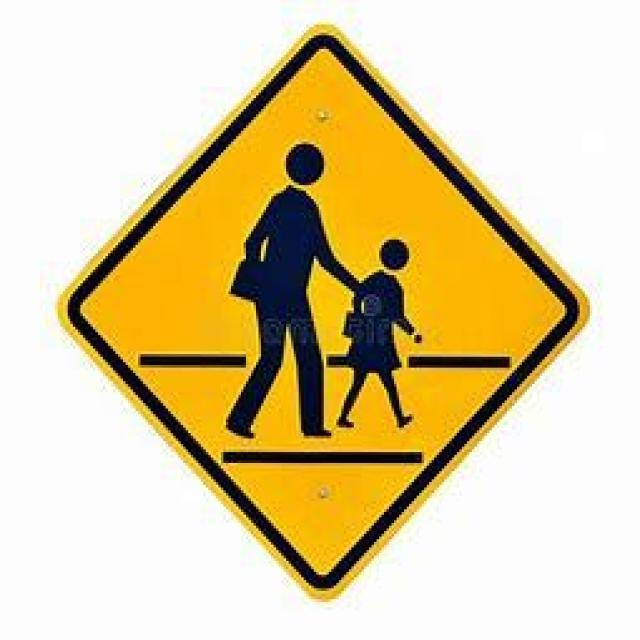SCHOOL_AHEAD: (53, 19, 587, 605)
